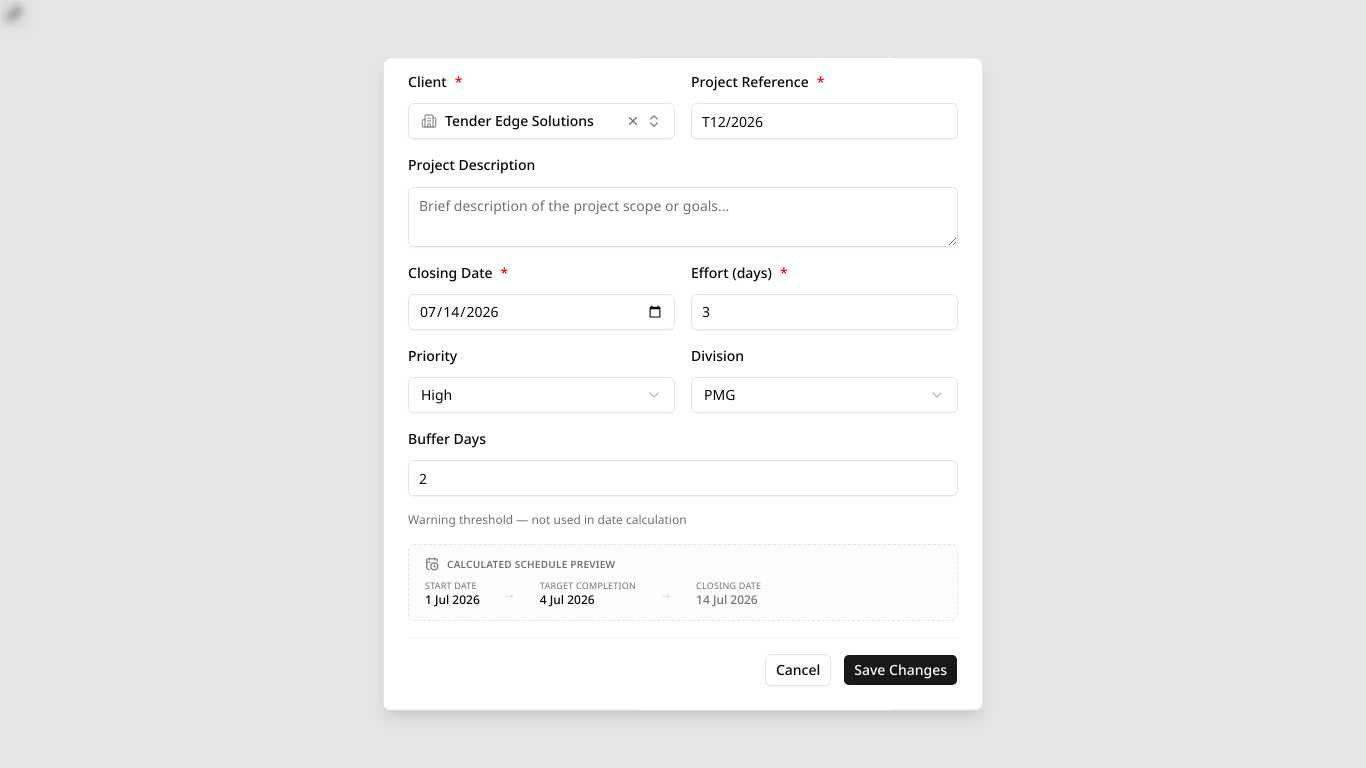
ProjectEditDialog › clears error on subsequent successful save
(page scrolled)
First save — triggers error
Click the button "Save Changes". click: coordinates (901, 669)
box: [843,653,958,685]
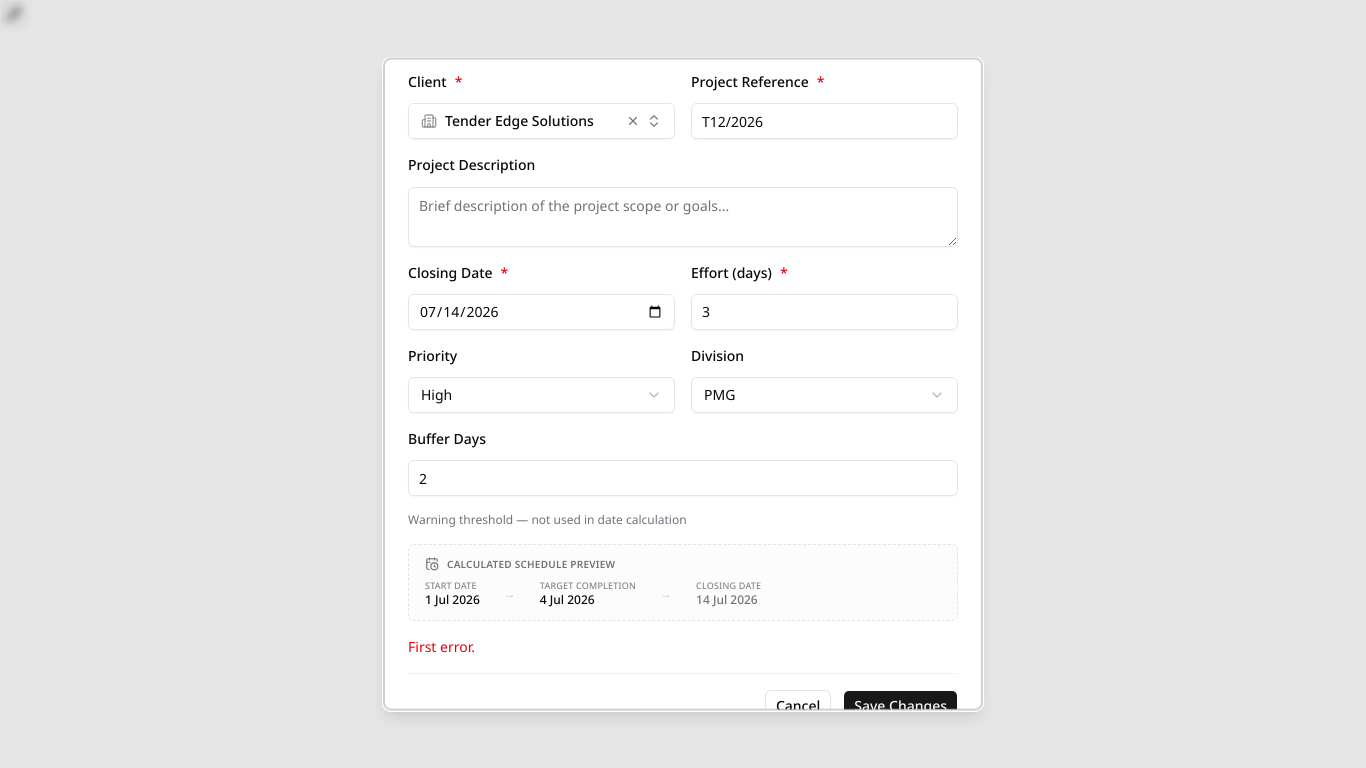
Expected: the text "First error." is shown, [408,636,475,655]
Second save — use findByRole to wait for transition to settle
Click the button "Save Changes". click: coordinates (901, 705)
box: [843,689,958,721]
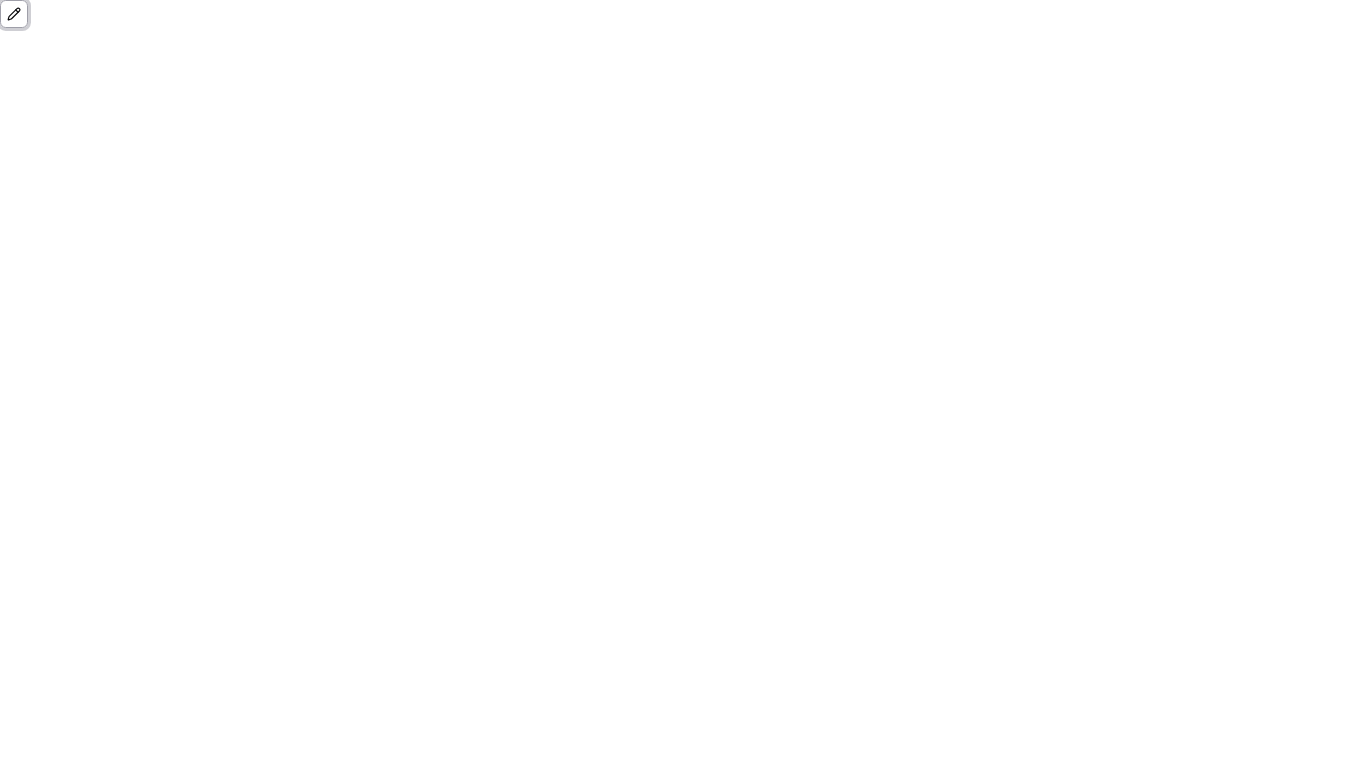
Expected: the text "First error." is gone
